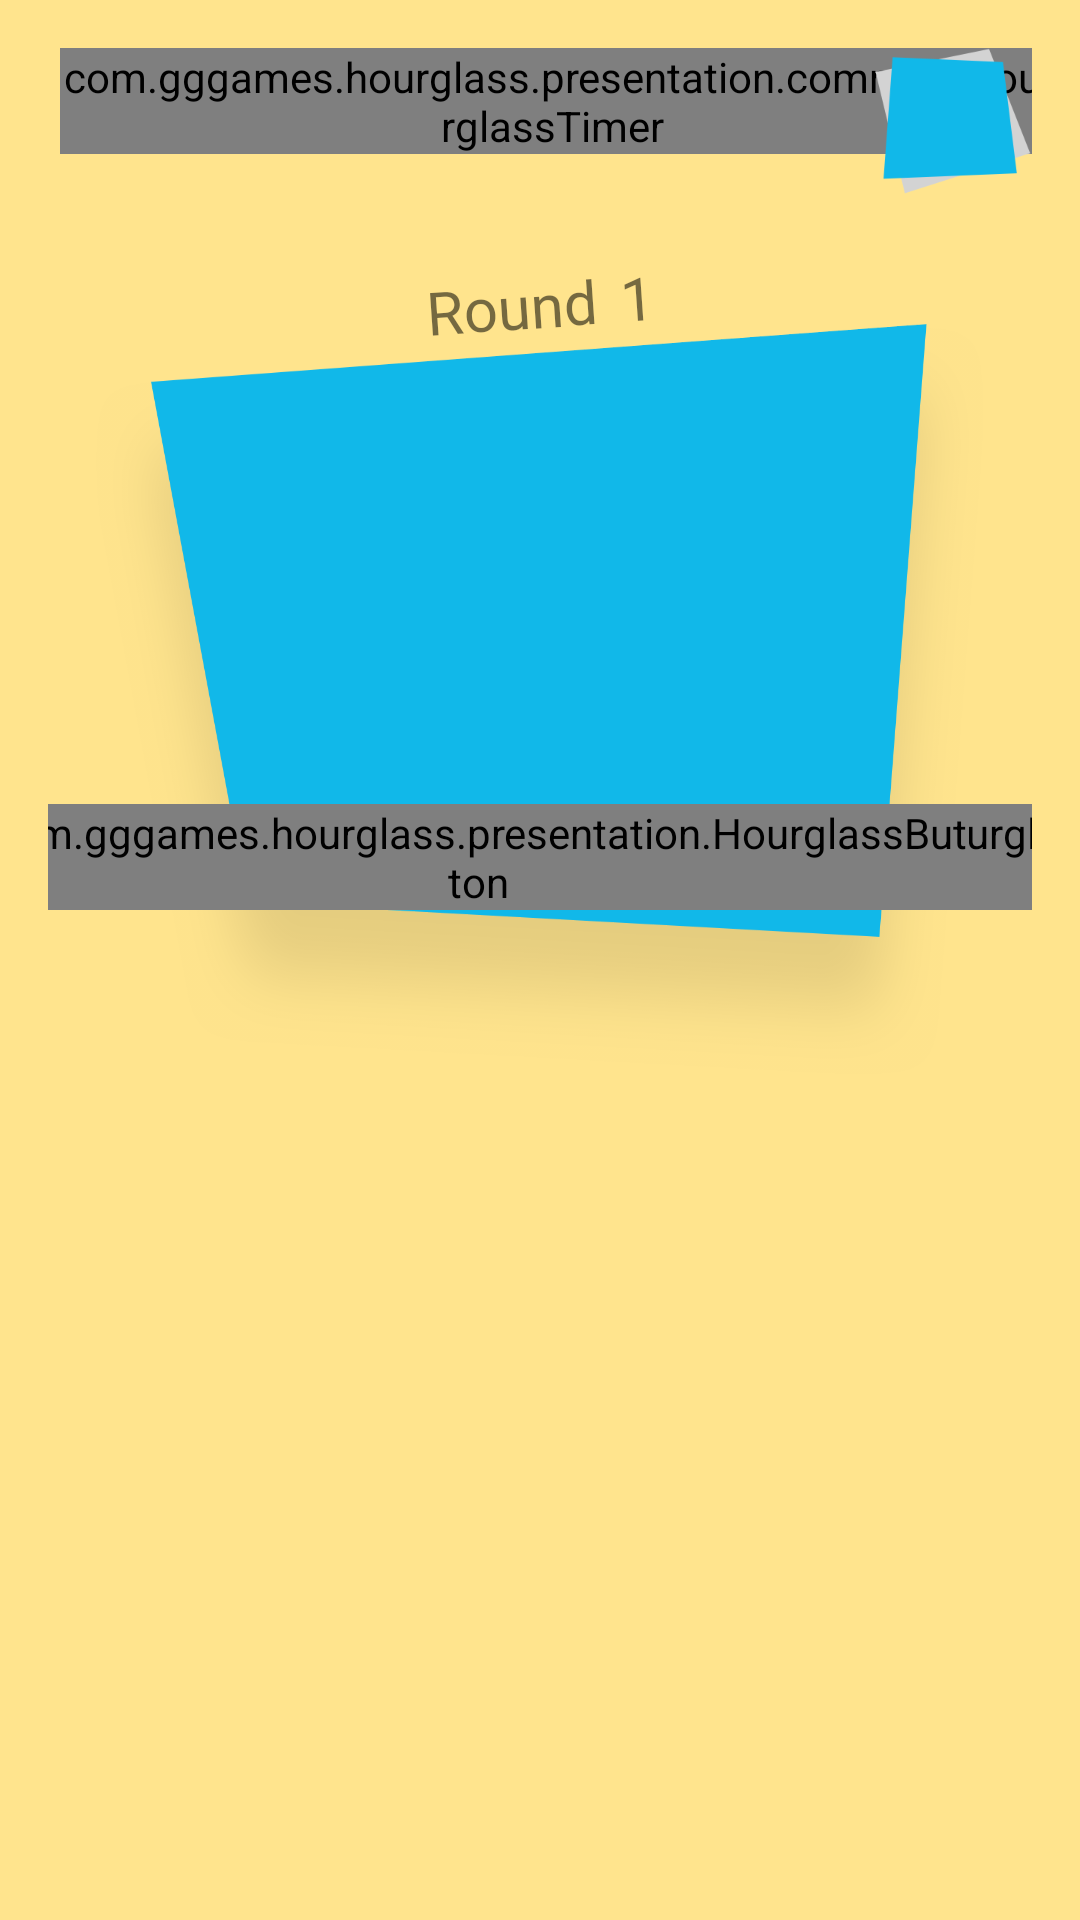

Icon bounding boxes for this 1080x1920 phone screenshot, format (x1, y1, x2, y2):
deck: (873, 48, 1032, 193)
